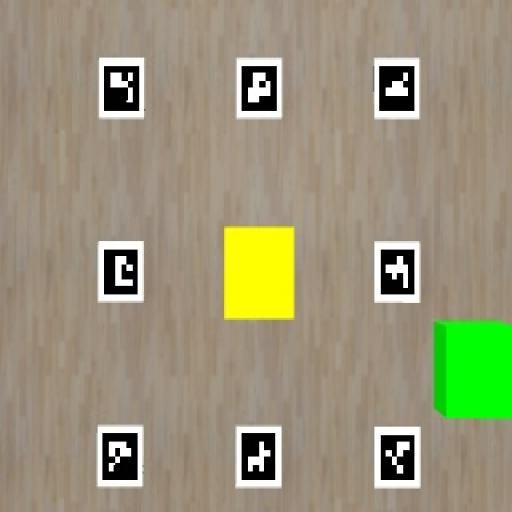car: (432, 320, 511, 420)
fire: (224, 227, 294, 319)
